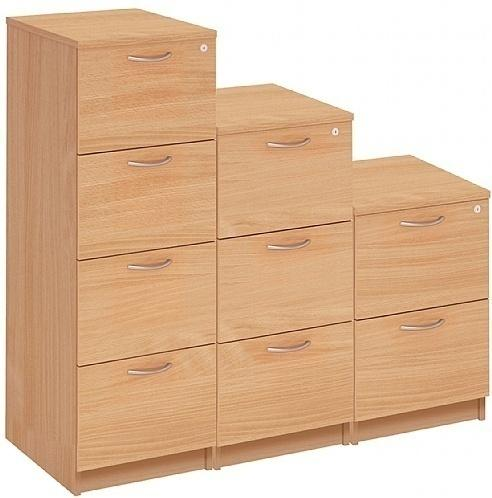cabinet_door: (73, 252, 215, 359), (74, 355, 215, 461), (74, 148, 215, 253), (74, 44, 216, 148), (216, 328, 353, 432), (217, 229, 355, 331), (355, 207, 490, 311), (355, 307, 491, 408), (217, 123, 350, 223)
handle: (264, 338, 313, 358), (398, 214, 445, 234), (126, 153, 174, 172), (126, 257, 174, 276), (398, 317, 446, 336), (126, 360, 173, 379), (265, 237, 312, 255), (125, 50, 174, 67), (264, 137, 312, 153)
